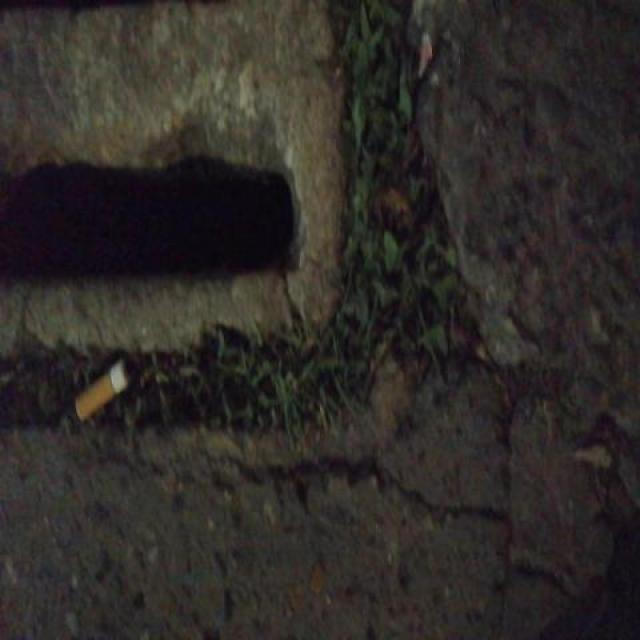non-organic waste: (70, 354, 138, 426)
